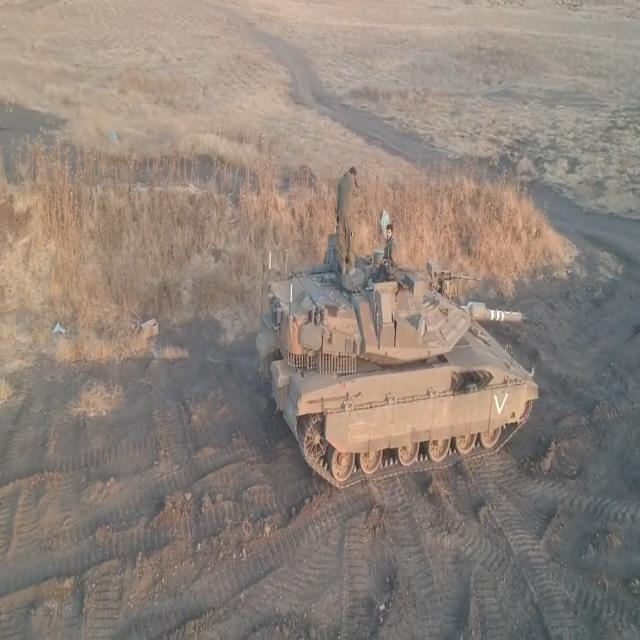tank: (247, 201, 554, 476)
